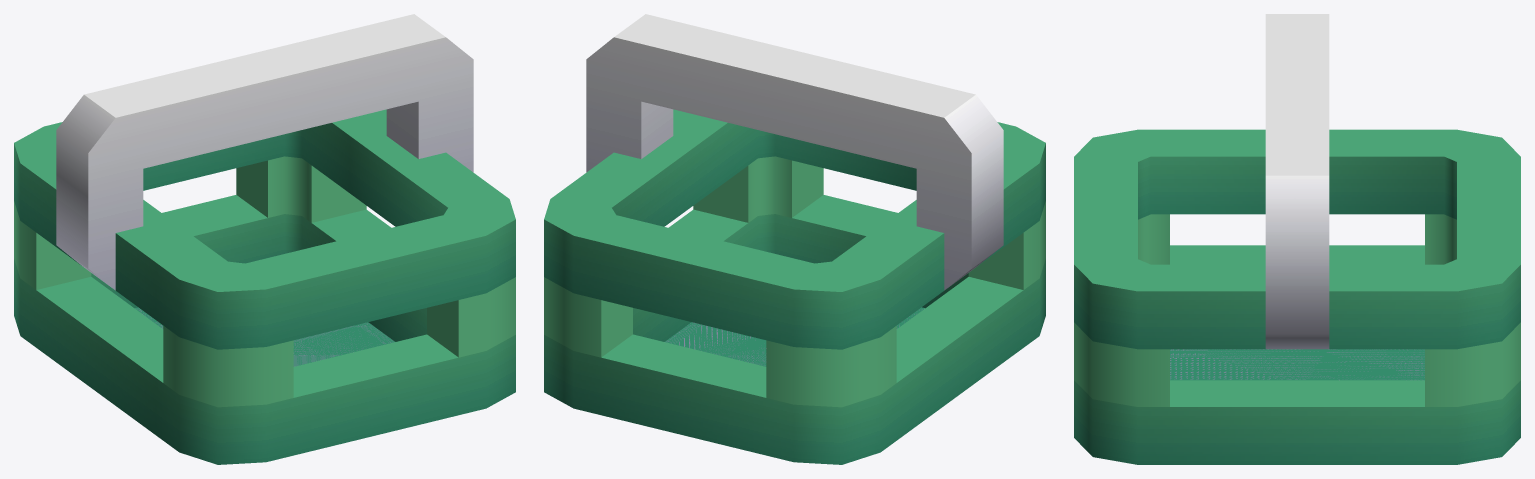
Rendered from market.shopping_basket.glb.
The picture shows the model from 3 angles, left to right: view 1: azimuth 30°, elevation 25°; view 2: azimuth 150°, elevation 25°; view 3: azimuth 270°, elevation 25°; orthographic projection.
Parts seen in each view (by area): view 1: shopping-basket; view 2: shopping-basket; view 3: shopping-basket.
Part boxes in pixels (x1,y1,x2,y2): shopping-basket: (14,14,515,464); shopping-basket: (544,14,1045,464); shopping-basket: (1074,14,1520,464).
Bounding box in the file's own units: 0.8951 × 0.6394 × 0.8951.
1 material, 1 textured.
